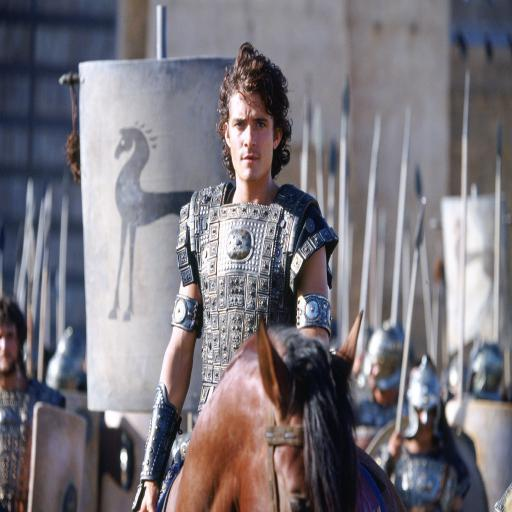horse: (156, 312, 409, 512)
